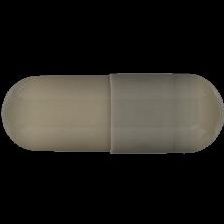51079-585: (0, 0, 224, 224)
